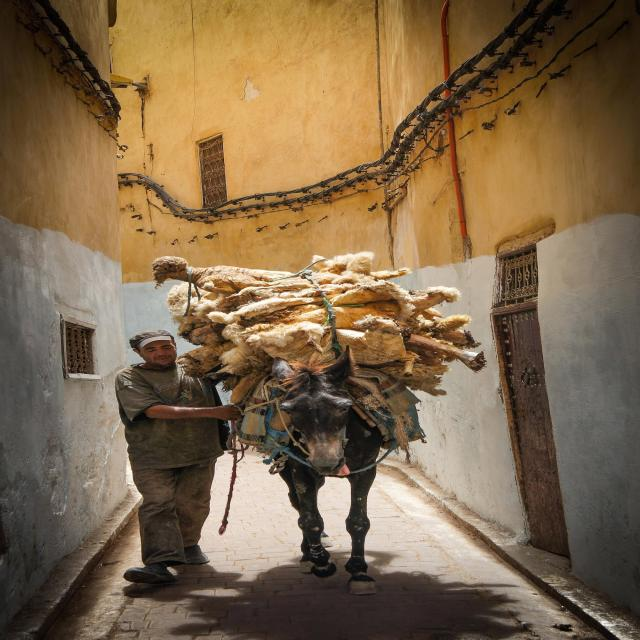adult: (114, 329, 235, 582)
